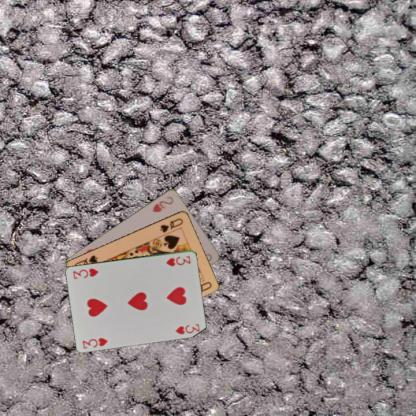2h: (150, 194, 174, 213)
3h: (163, 253, 192, 268), (80, 335, 109, 350)
Qs: (157, 215, 184, 233)
